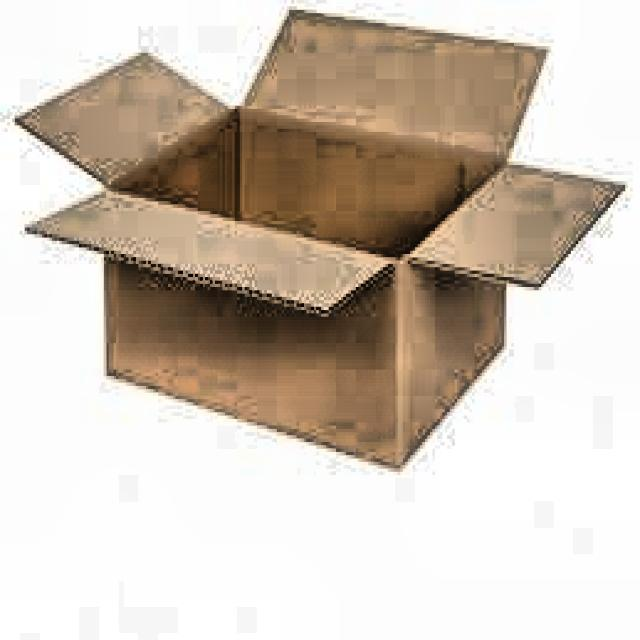Cardbox: (0, 0, 640, 482)
